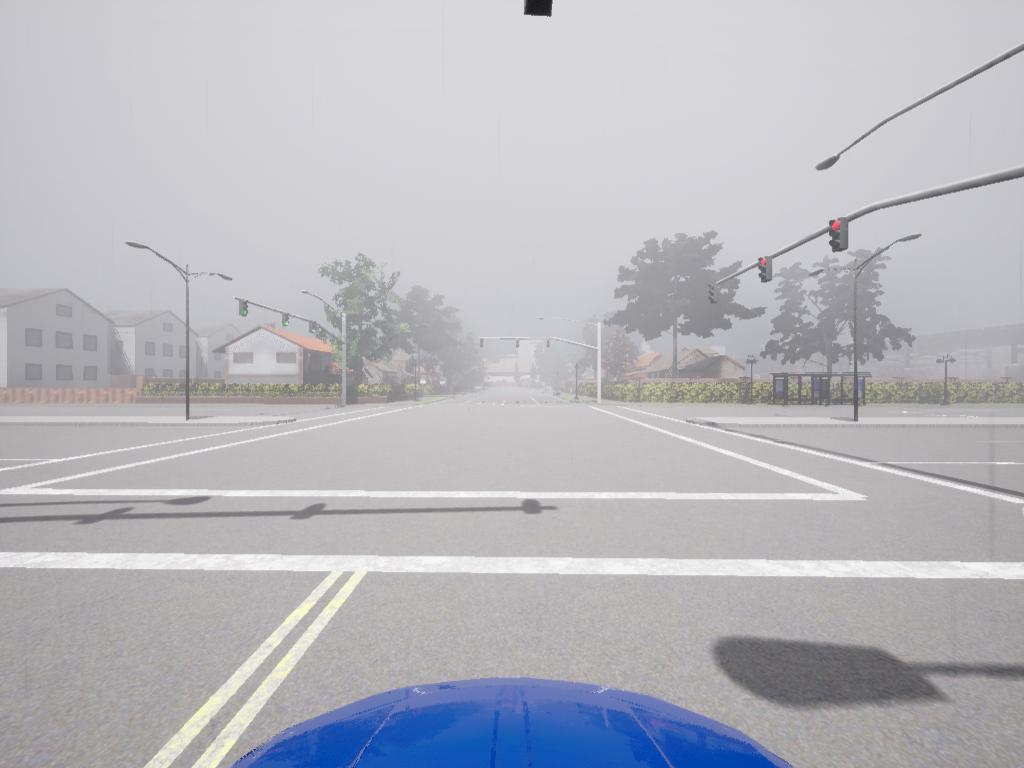traffic_light: (830, 220, 850, 254), (524, 1, 556, 18), (760, 259, 774, 284), (708, 282, 721, 307), (239, 299, 251, 320), (283, 312, 293, 329), (309, 321, 319, 336), (516, 337, 522, 352), (547, 339, 553, 351), (480, 337, 486, 349)
